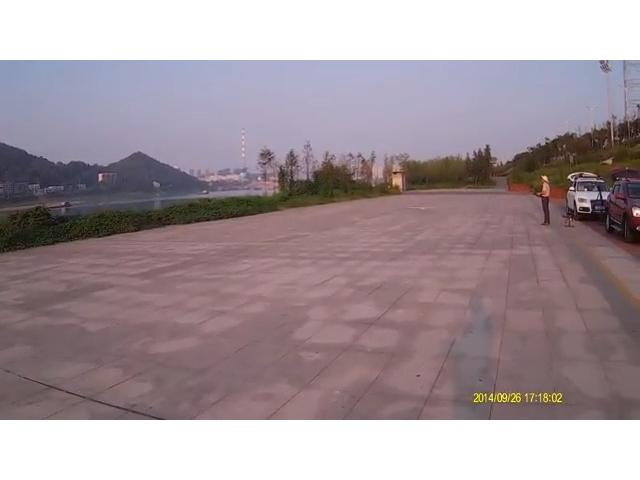Anti-Drone: (405, 199, 443, 214)
